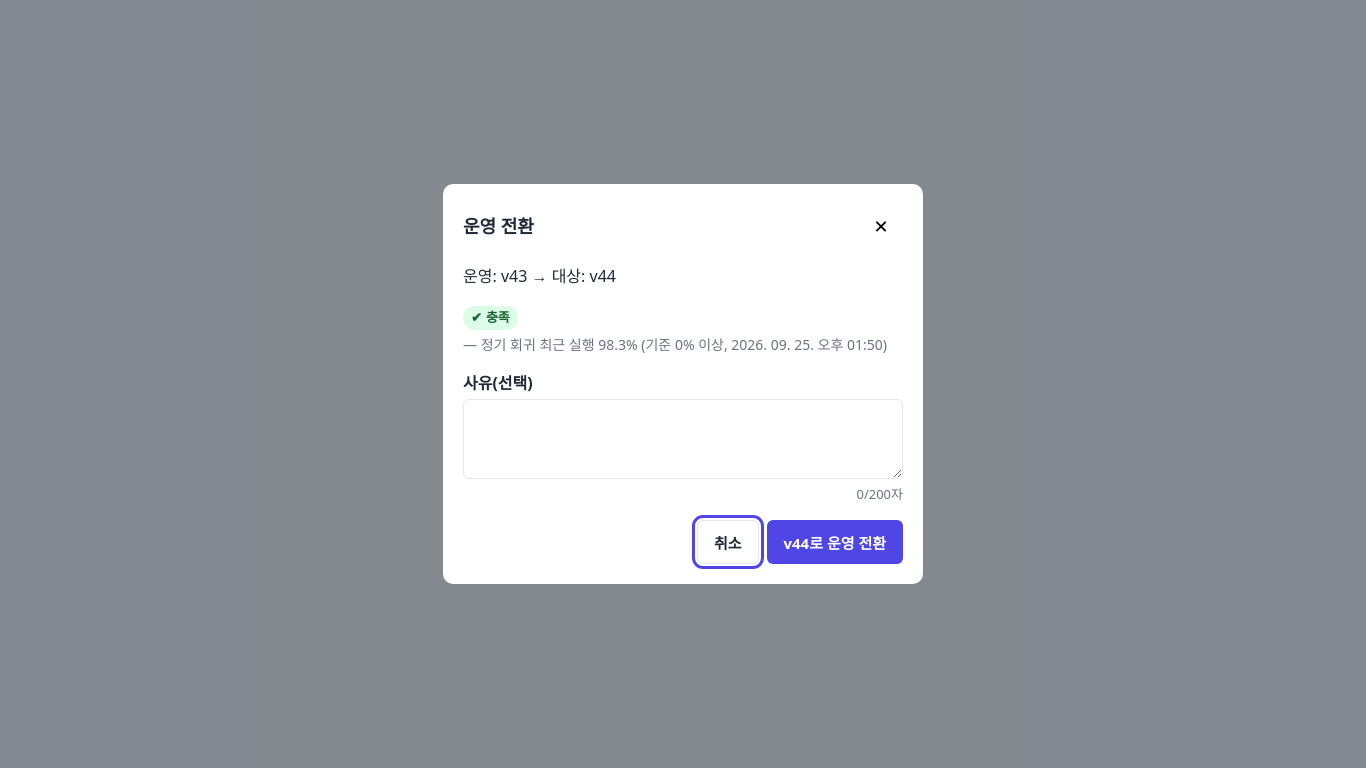
Test: ProdSwitchDialog — 정책이 방금 켜진 경우(409 ENV_APPROVAL_REQUIRED) › 안내 후 미리보기를 다시 조회해 요청 모드로 바뀌고, 사유는 유지되며 자동 요청은 하지 않는다
Type "급한 수정" into the text box labelled "사유(선택)" at (683, 438), box top-left (463, 398), bottom-right (903, 478)
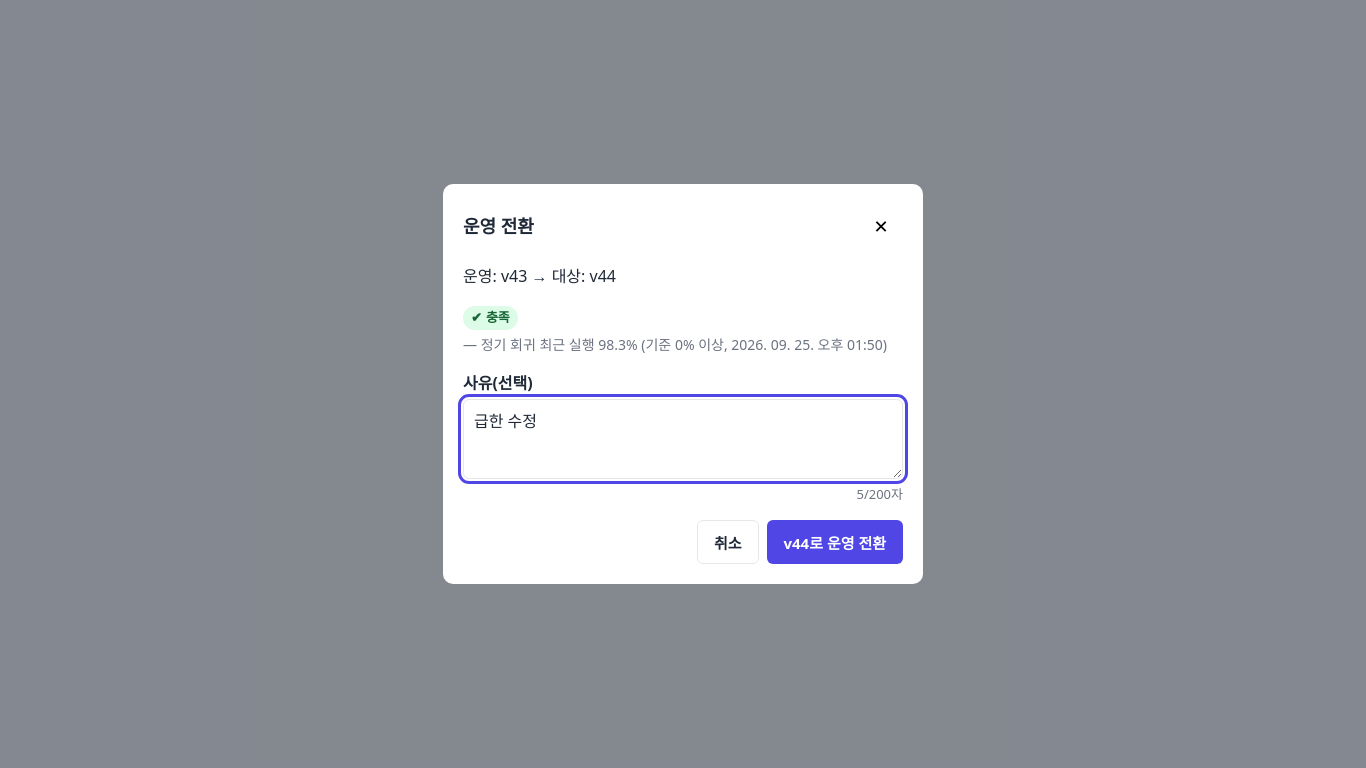
Click the button "v44로 운영 전환" at (835, 542), box top-left (766, 520), bottom-right (903, 564)
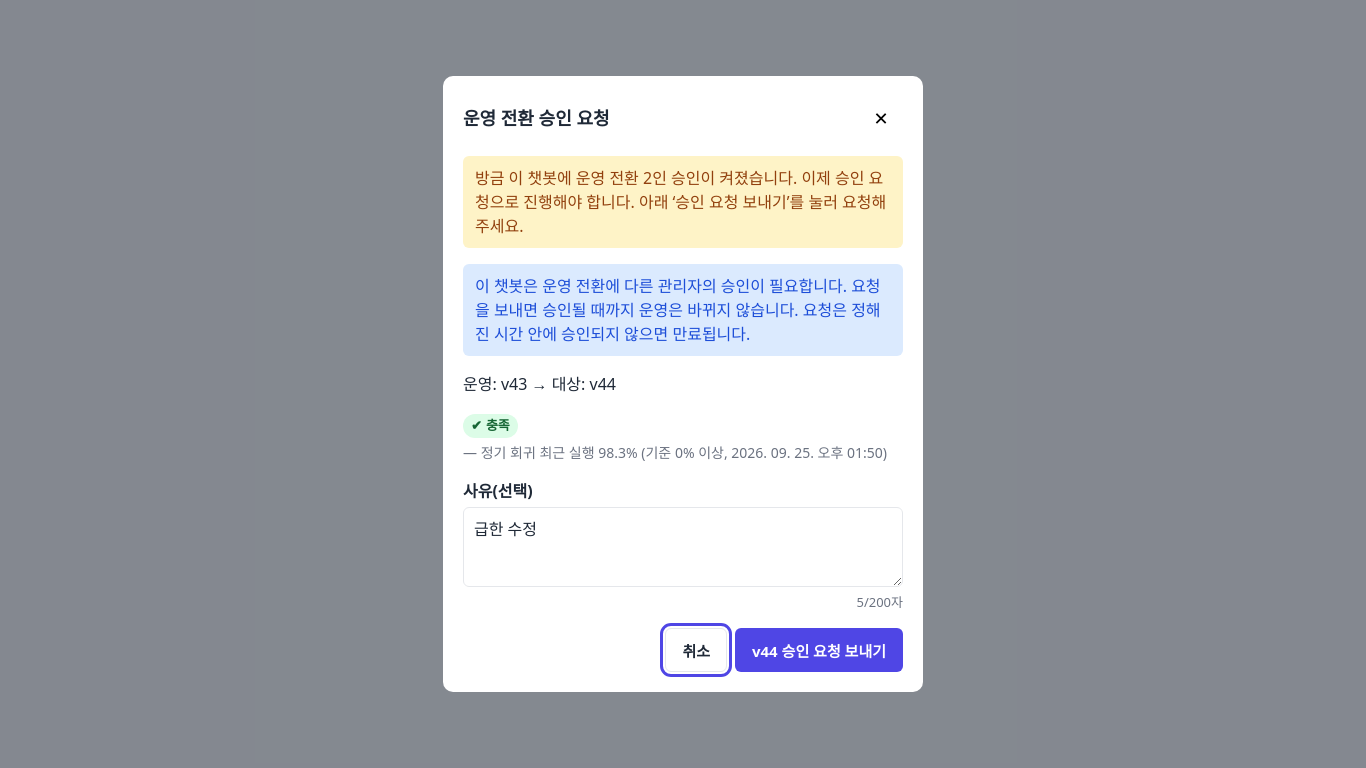
Expected: the text "방금 이 챗봇에 운영 전환 2인 승인이 켜졌습니다. 이제 승인 요청으로 진행해야 합니다. 아래 ‘승인 요청 보내기’를 눌러 요청해 주세요." is shown, top-left (463, 156), bottom-right (903, 248)
Expected: the button "v44 승인 요청 보내기" is shown, top-left (735, 628), bottom-right (903, 672)
